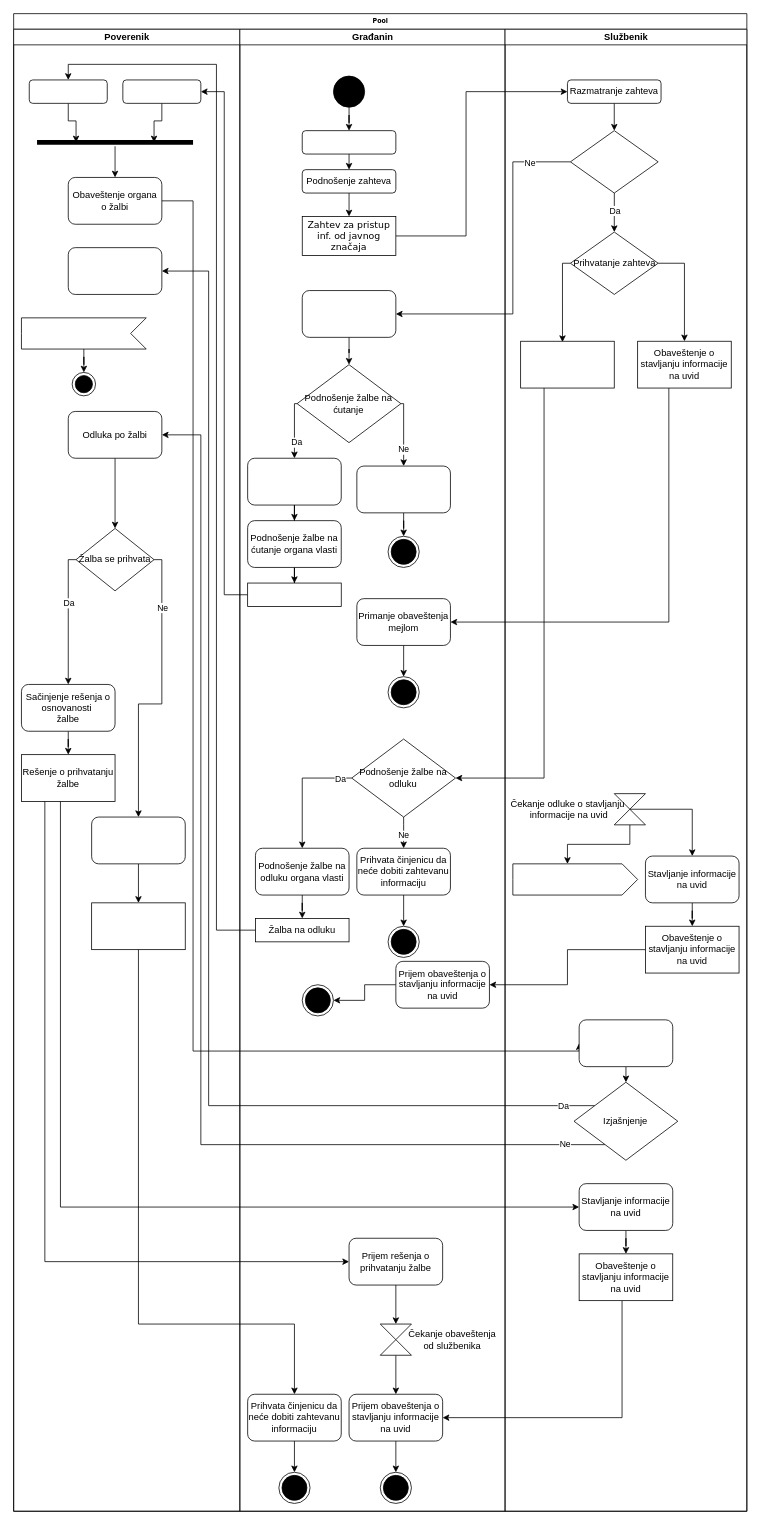
This 761x1525 diagram has some shape labels left out. Each missing label, with the centre of its shape:
Obaveštavanje poverenika: point (575, 879)
Obaveštenje o odbijanju zahteva: point (567, 364)
Odgovaranje na zahtev u roku: point (614, 161)
Prihvata činjenicu da nikad neće dobiti zahtevanu informaciju: point (403, 489)
Prihvaćen zahtev: point (83, 333)
Prijava na sistem poverenika: point (294, 481)
Prijava na sistem službenika: point (348, 142)
Razmatra podnošenje žalbe na ćutanje: point (348, 313)
Razmatranje izjašnjenja: point (114, 270)
Razmatranje žalbe: point (625, 1043)
Razmatranje žalbe na odluku: point (67, 91)
Razmatranje žalbe na ćutanje: point (161, 91)
Rešenje o odbijanju žalbe: point (138, 926)
Sačinjenje rešenja o odbijanju žalbe: point (138, 840)
Žalba na ćutanje: point (294, 594)
